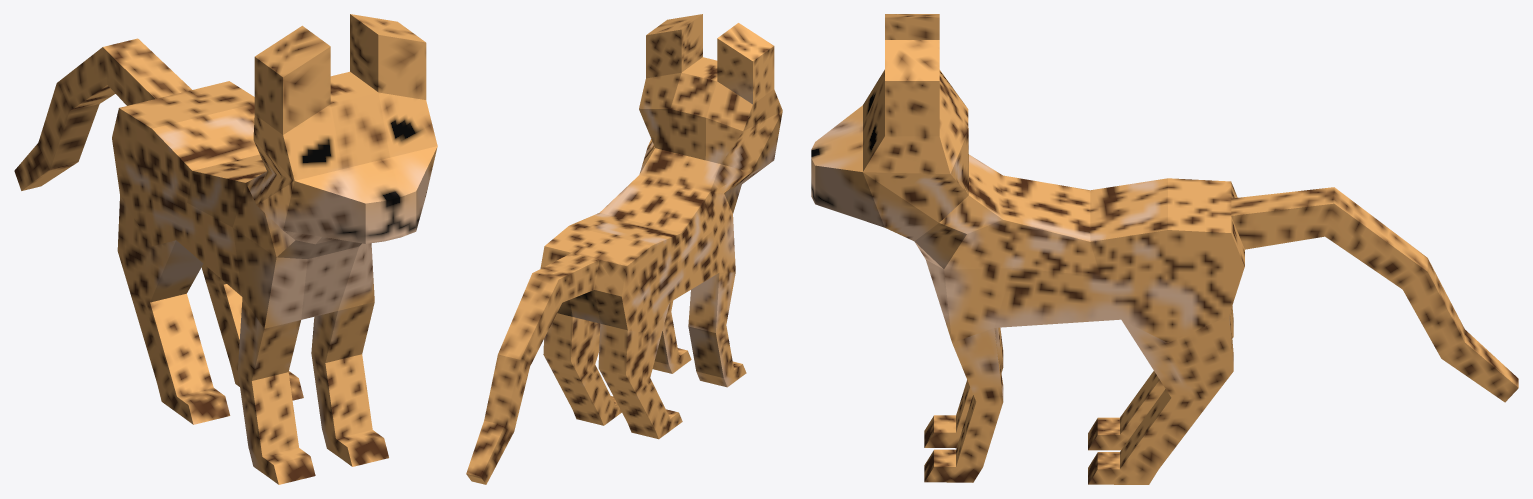
File: ocelot.glb
3 views of the same model, side by side, from view 1: azimuth 30°, elevation 25°; view 2: azimuth 150°, elevation 25°; view 3: azimuth 270°, elevation 25° (orthographic). The views are drawn at different scales.
Parts seen in each view (by area): view 1: Cube.003; view 2: Cube.003; view 3: Cube.003.
Part boxes in pixels (x1,y1,x2,y2): Cube.003: (14,14,437,484); Cube.003: (466,14,782,484); Cube.003: (811,14,1518,484).
Size of the model in its own units: 0.2891 by 0.8441 by 1.26.
1 material, 1 textured.
